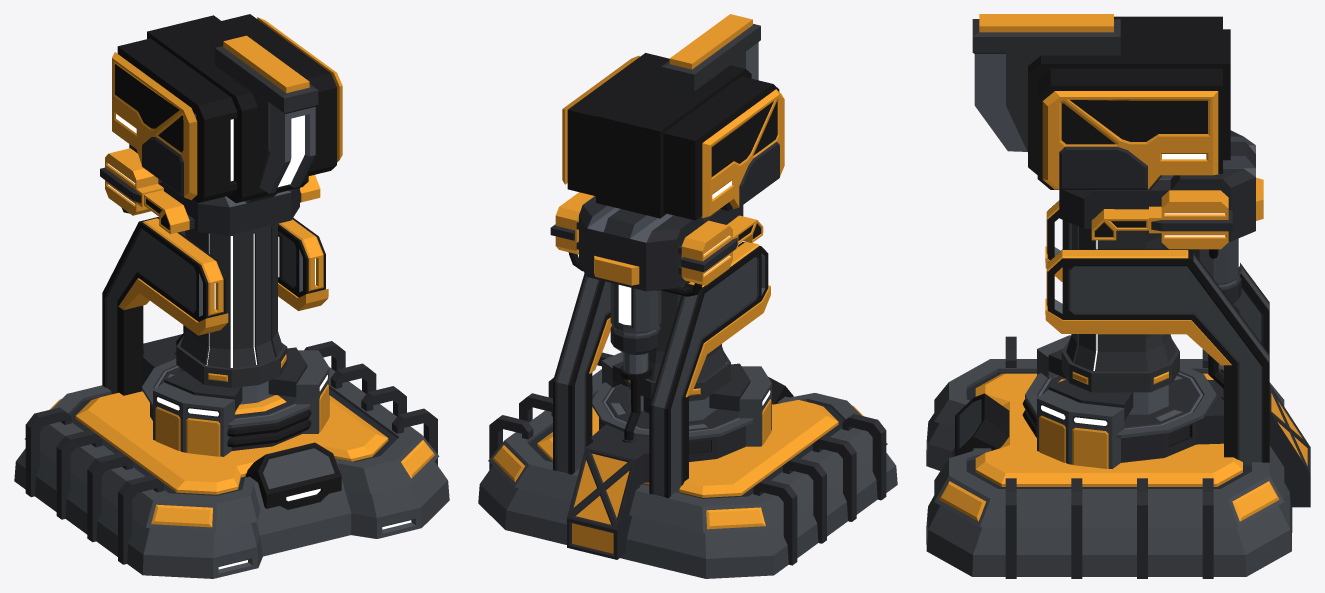
Rendered from SM_Device_05.glb.
3 views of the same model, side by side, from view 1: azimuth 30°, elevation 25°; view 2: azimuth 150°, elevation 25°; view 3: azimuth 270°, elevation 25° (orthographic). The views are drawn at different scales.
Parts seen in each view (by area): view 1: SM_Device_05; view 2: SM_Device_05; view 3: SM_Device_05.
Boxes of the visible parts, bbox=[...] form: SM_Device_05: bbox=[14, 14, 449, 578]; SM_Device_05: bbox=[478, 14, 897, 578]; SM_Device_05: bbox=[926, 14, 1310, 578].
Bounding box in the file's own units: 4.21 × 5.75 × 4.18.
2 materials, 1 textured.
